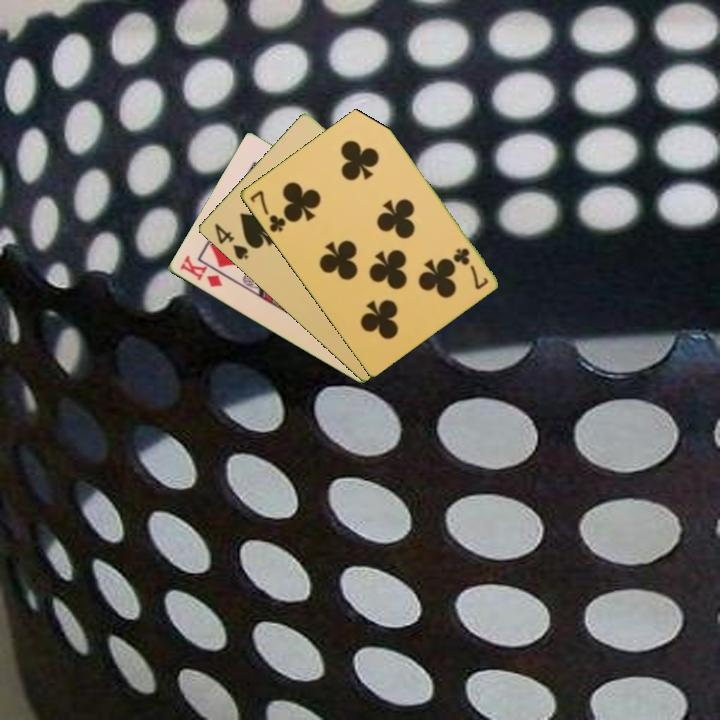4s: (210, 219, 251, 262)
7c: (449, 244, 491, 293), (246, 187, 288, 235)
Kd: (176, 252, 225, 290)
